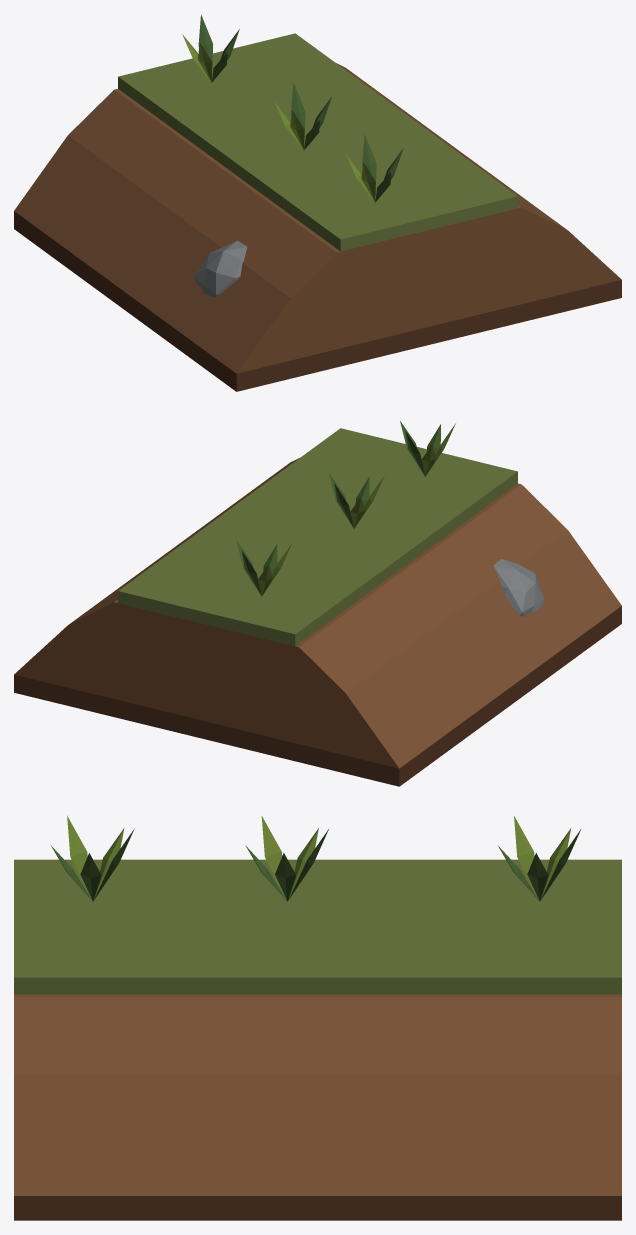
File: 167_raised_earth_bank.fbx
3 renders of one model, top to bottom at view 1: azimuth 30°, elevation 25°; view 2: azimuth 150°, elevation 25°; view 3: azimuth 270°, elevation 25°, orthographic. The views are drawn at different scales.
Parts seen in each view (by area): view 1: 167_raised_earth_bank; view 2: 167_raised_earth_bank; view 3: 167_raised_earth_bank.
Part boxes in pixels (bbox=[...]): 167_raised_earth_bank: bbox=[14, 14, 621, 391]; 167_raised_earth_bank: bbox=[14, 421, 621, 786]; 167_raised_earth_bank: bbox=[14, 815, 621, 1220].
Bounding box in the file's own units: 2 × 0.9108 × 2.
Materials: 1 (1 with a texture image).
